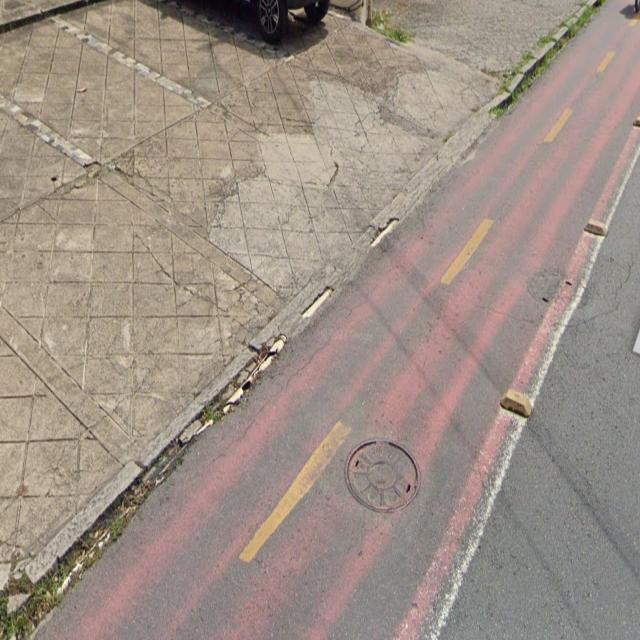Bueiro: (345, 427, 430, 526)
